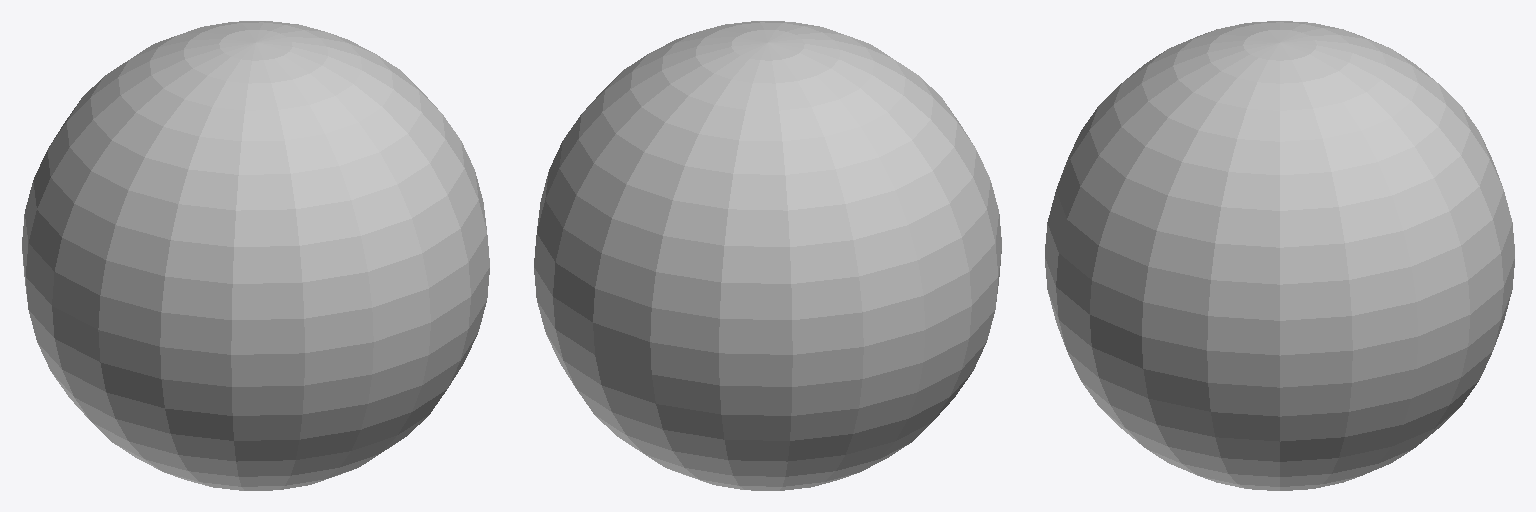
File: SkyBox.obj
The picture shows the model from 3 angles: view 1: azimuth 30°, elevation 25°; view 2: azimuth 150°, elevation 25°; view 3: azimuth 270°, elevation 25°; orthographic projection.
Visible parts, largest first — view 1: skybox.001; view 2: skybox.001; view 3: skybox.001.
Part boxes in pixels (x1,y1,x2,y2): skybox.001: (22,21,489,490); skybox.001: (534,21,1001,490); skybox.001: (1045,21,1514,490).
Size of the model in its own units: 0.4364 by 0.4364 by 0.4364.